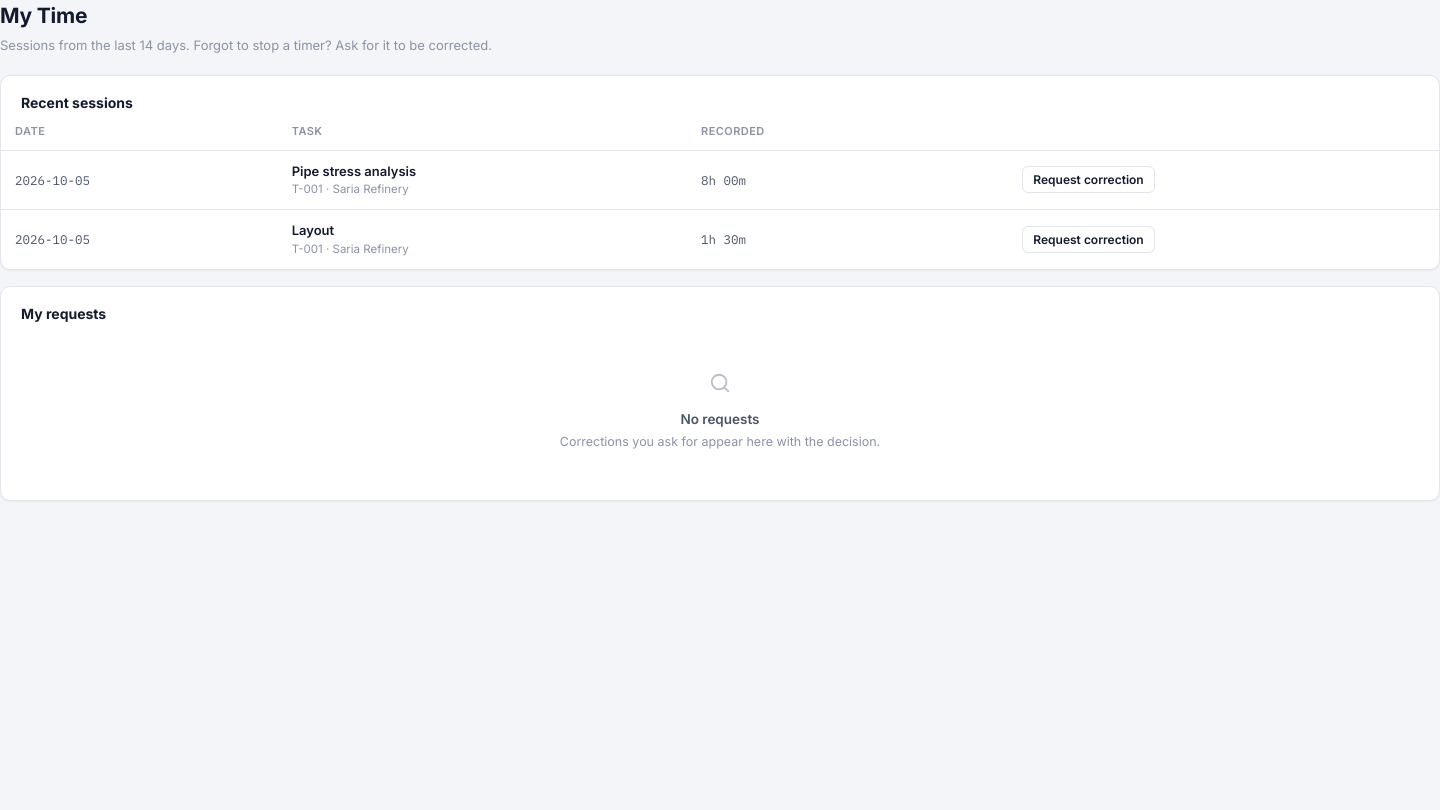
Test: My Time › checks the form before sending
Later steps or results of the test are not shown.
Step 1. Click the button "Request correction" in the row of "Pipe stress analysis" → (1088, 180), box [1022,166,1155,193]
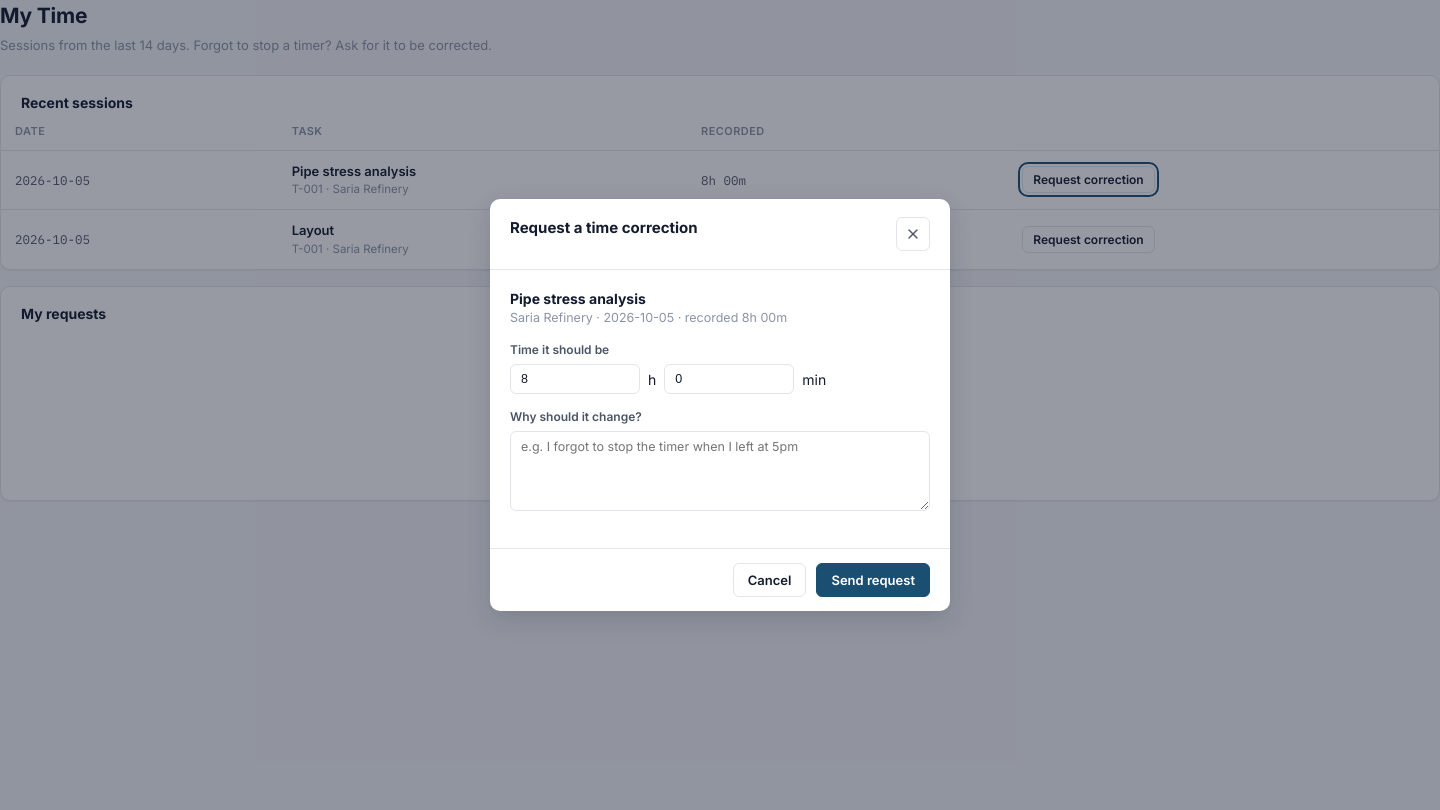
Step 2. Click the button "Send request" → (873, 580), box [816,563,930,597]
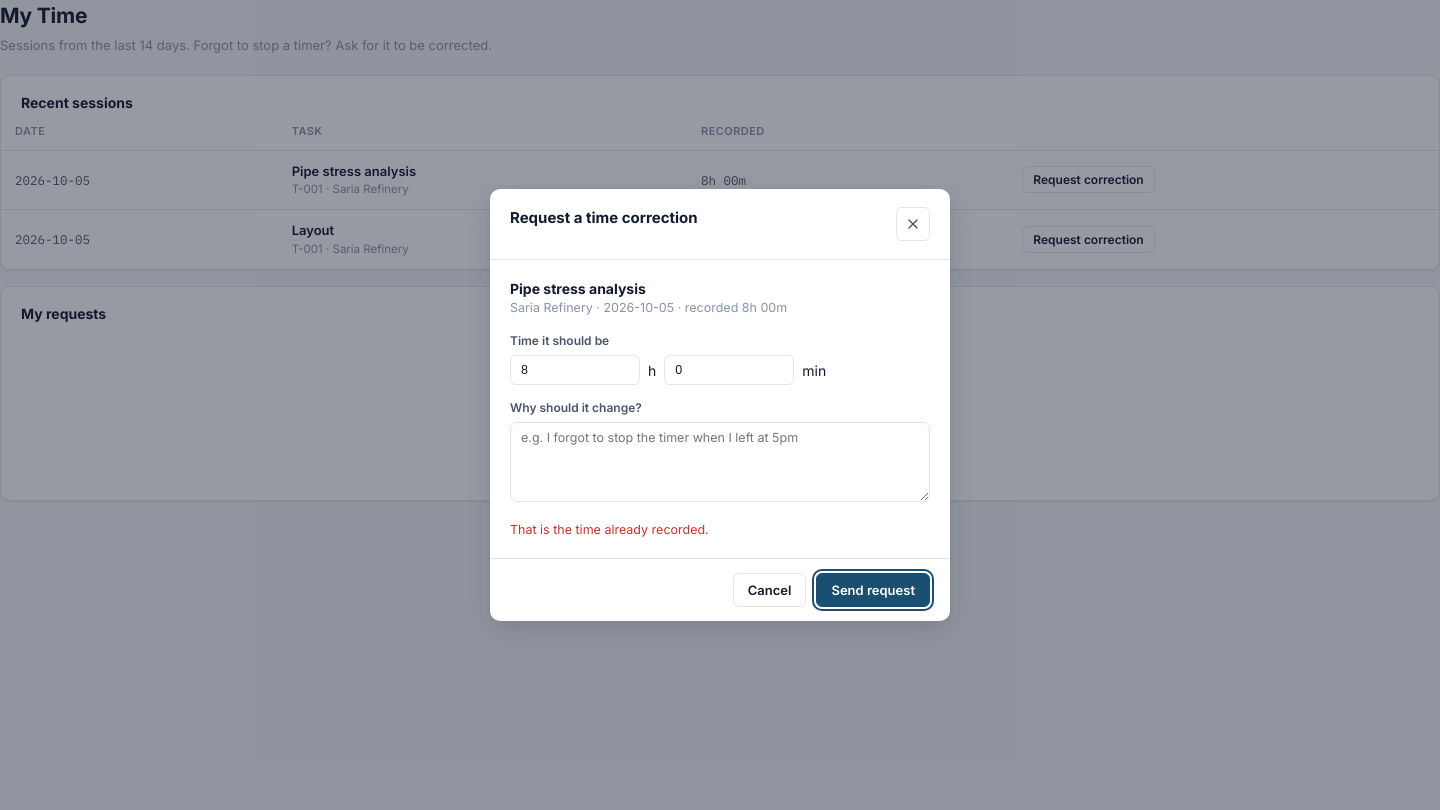
Expected: the message shows "already recorded", [510,522,709,537]
Step 3. Replace the text in the number field named "Hours" with "5" → (575, 370), box [510,355,640,385]
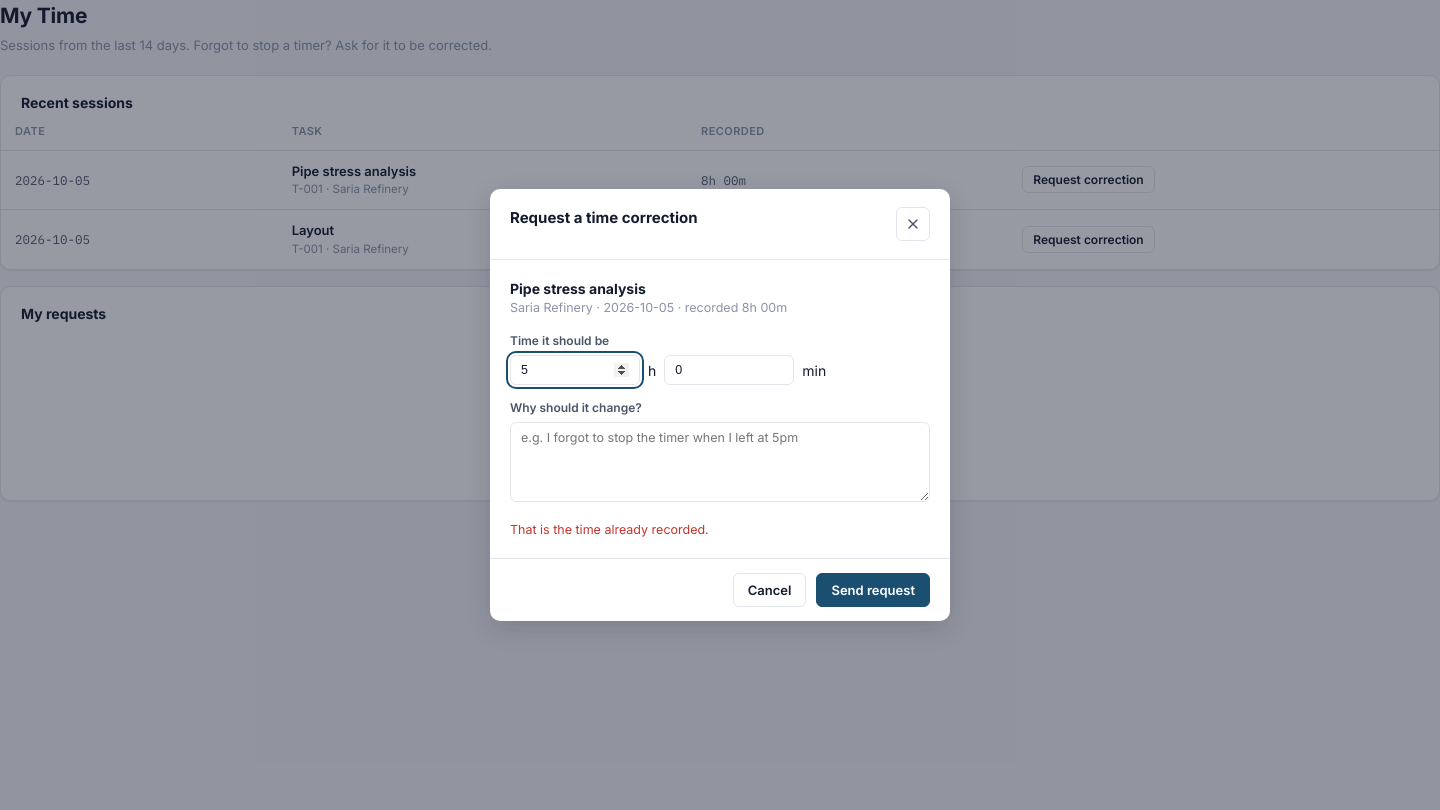
Step 4. Click the button "Send request" → (873, 590), box [816,573,930,607]
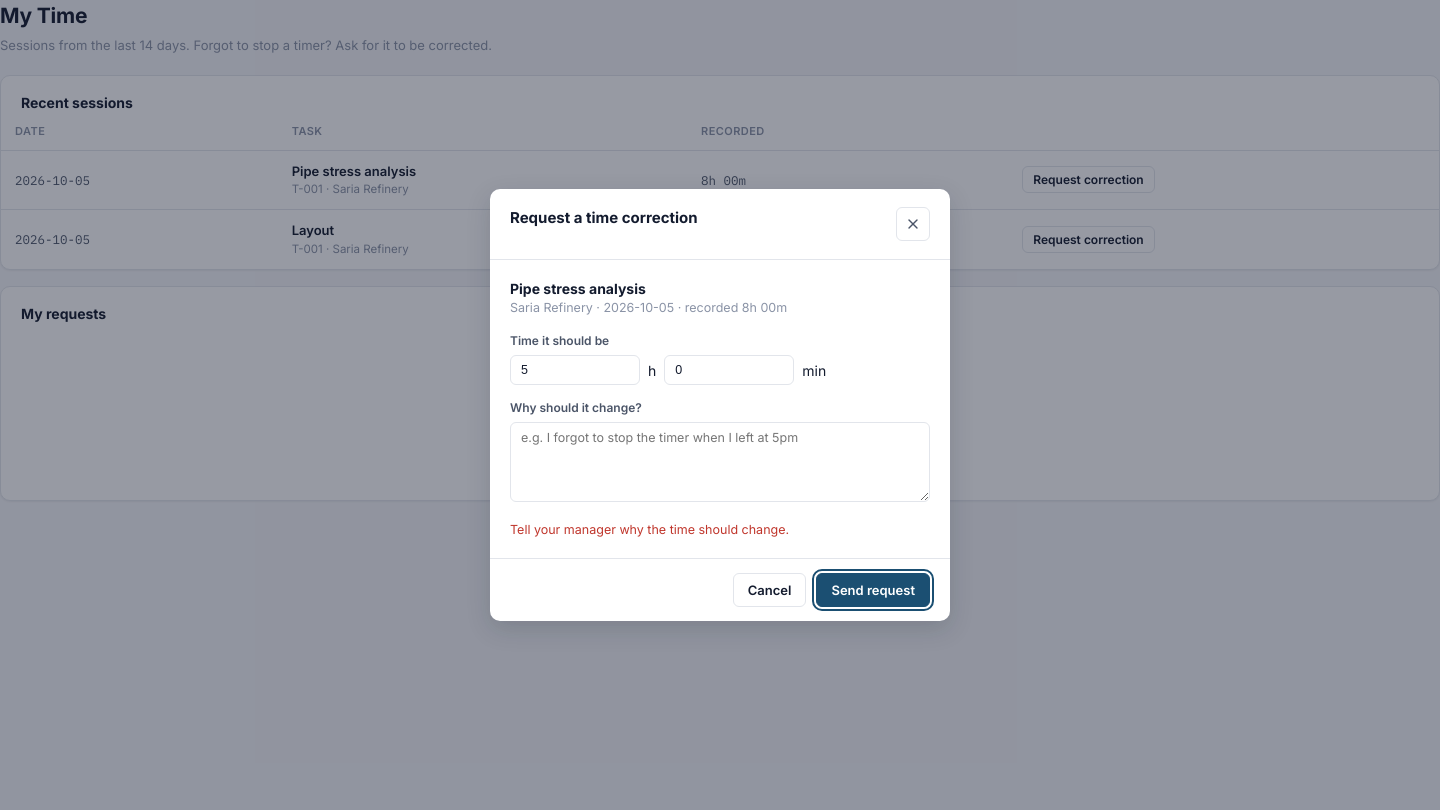
Expected: the message shows "why the time should change", [510,522,789,537]
Step 5. Replace the text in the number field named "Minutes" with "75" → (729, 370), box [664,355,794,385]
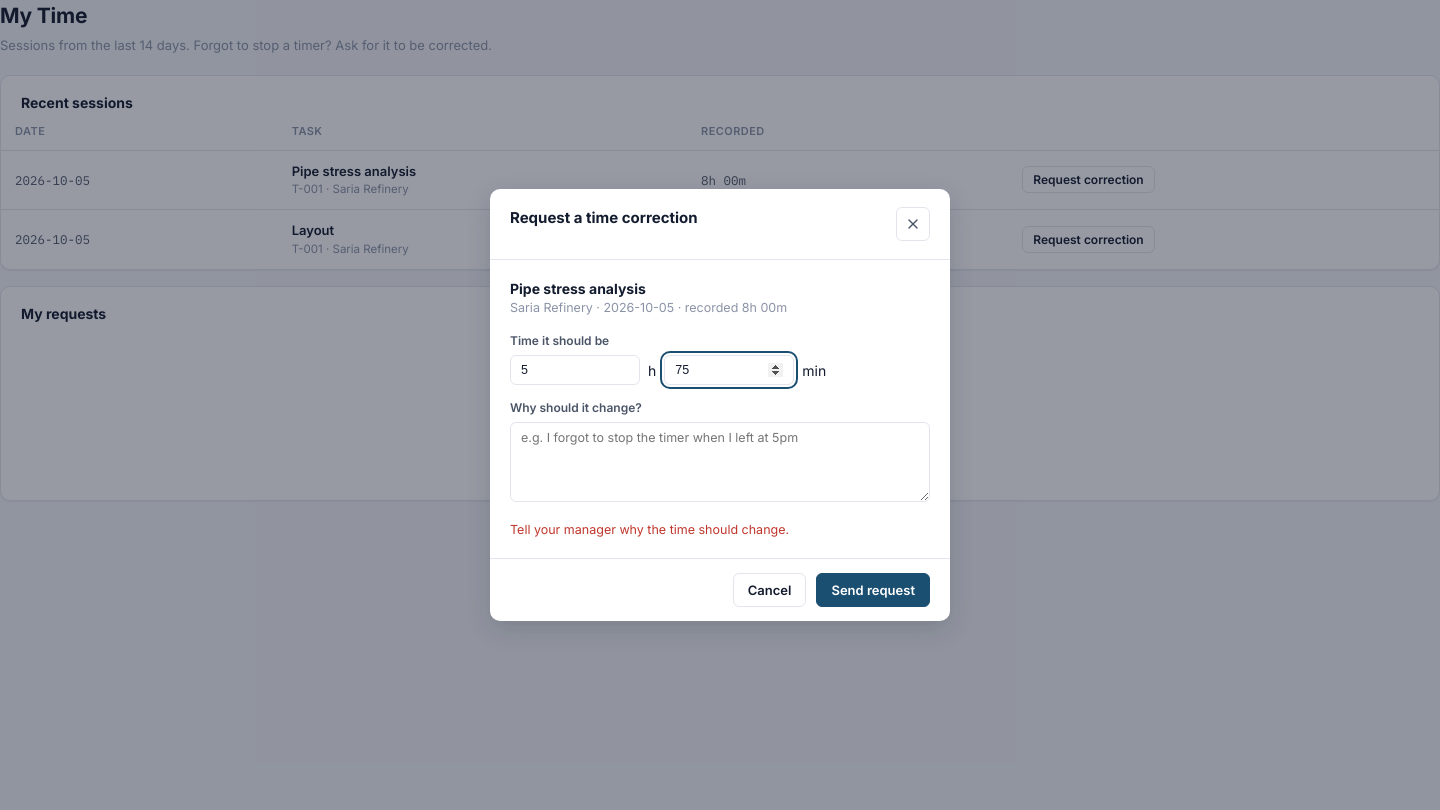
Step 6. Click the button "Send request" → (873, 590), box [816,573,930,607]
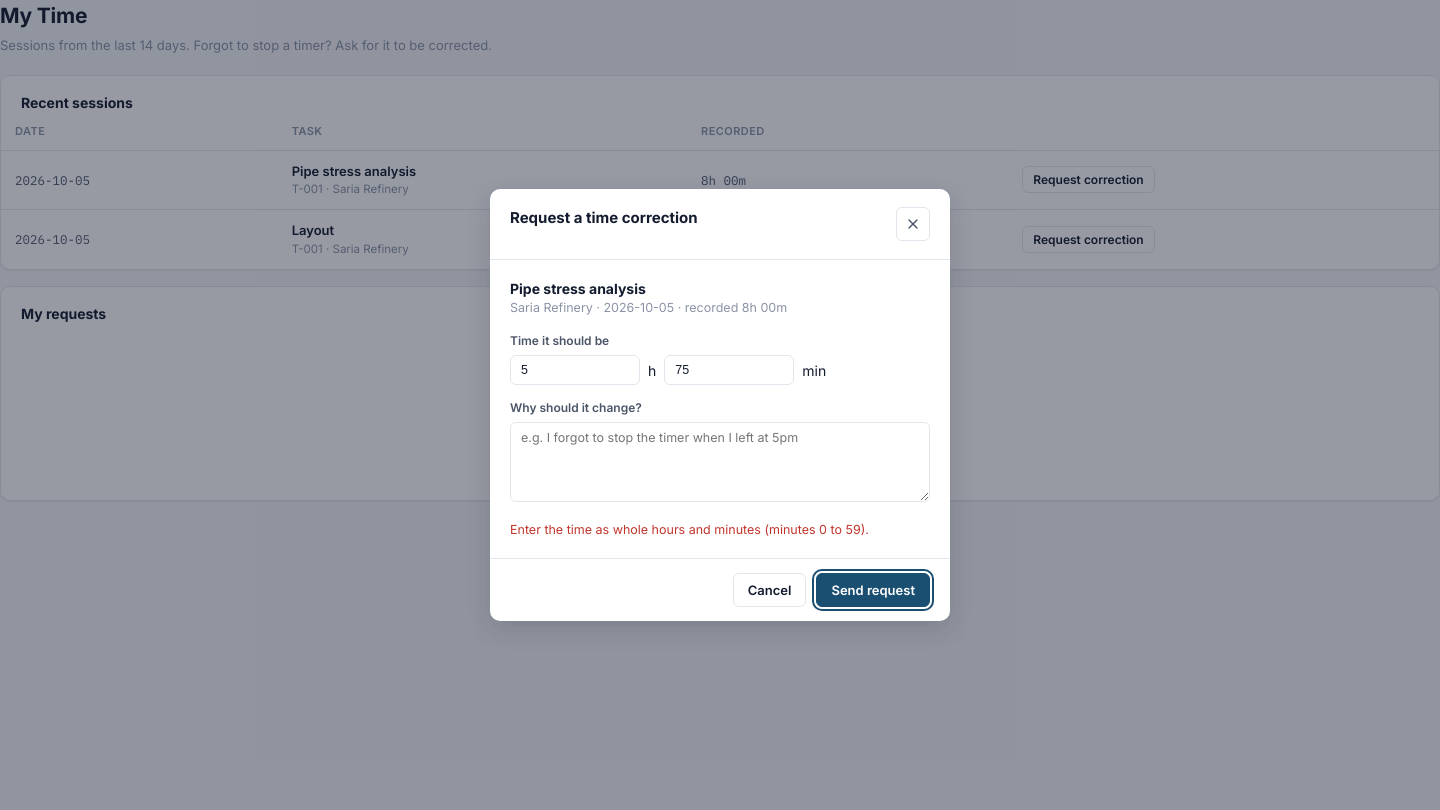
Expected: the message shows "minutes 0 to 59", [510,522,869,537]
